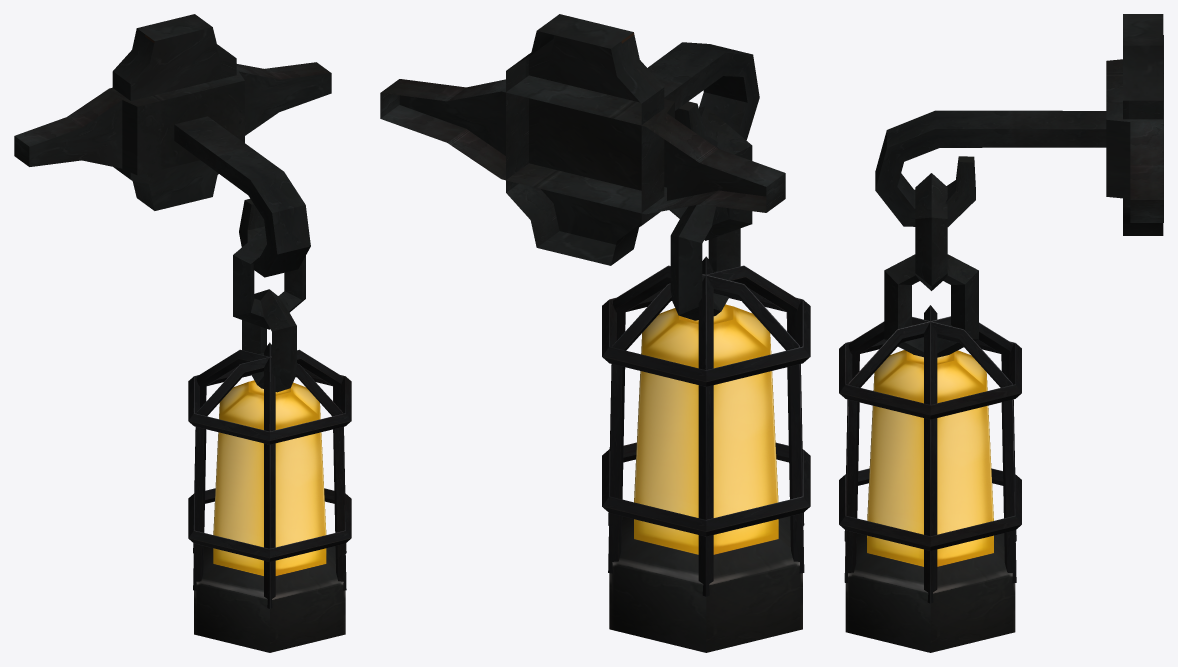
The model's file is sewer_metal002.FBX.
The picture shows the model from 3 angles, left to right: view 1: azimuth 30°, elevation 25°; view 2: azimuth 150°, elevation 25°; view 3: azimuth 270°, elevation 25°; orthographic projection. The views are drawn at different scales.
Visible parts, largest first — view 1: sewer_metal002; view 2: sewer_metal002; view 3: sewer_metal002.
Boxes of the visible parts, box(x1,y1,x2,y2) form: sewer_metal002: box(14, 14, 351, 652); sewer_metal002: box(380, 14, 810, 652); sewer_metal002: box(839, 14, 1163, 652).
Bounding box in the file's own units: 136 × 223 × 113.
